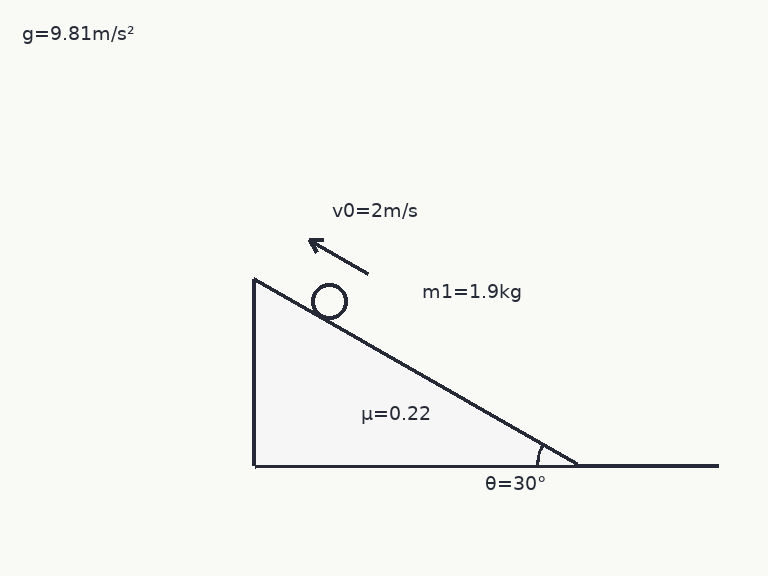ball: (309, 281, 349, 321)
ramp: (252, 276, 579, 467)
